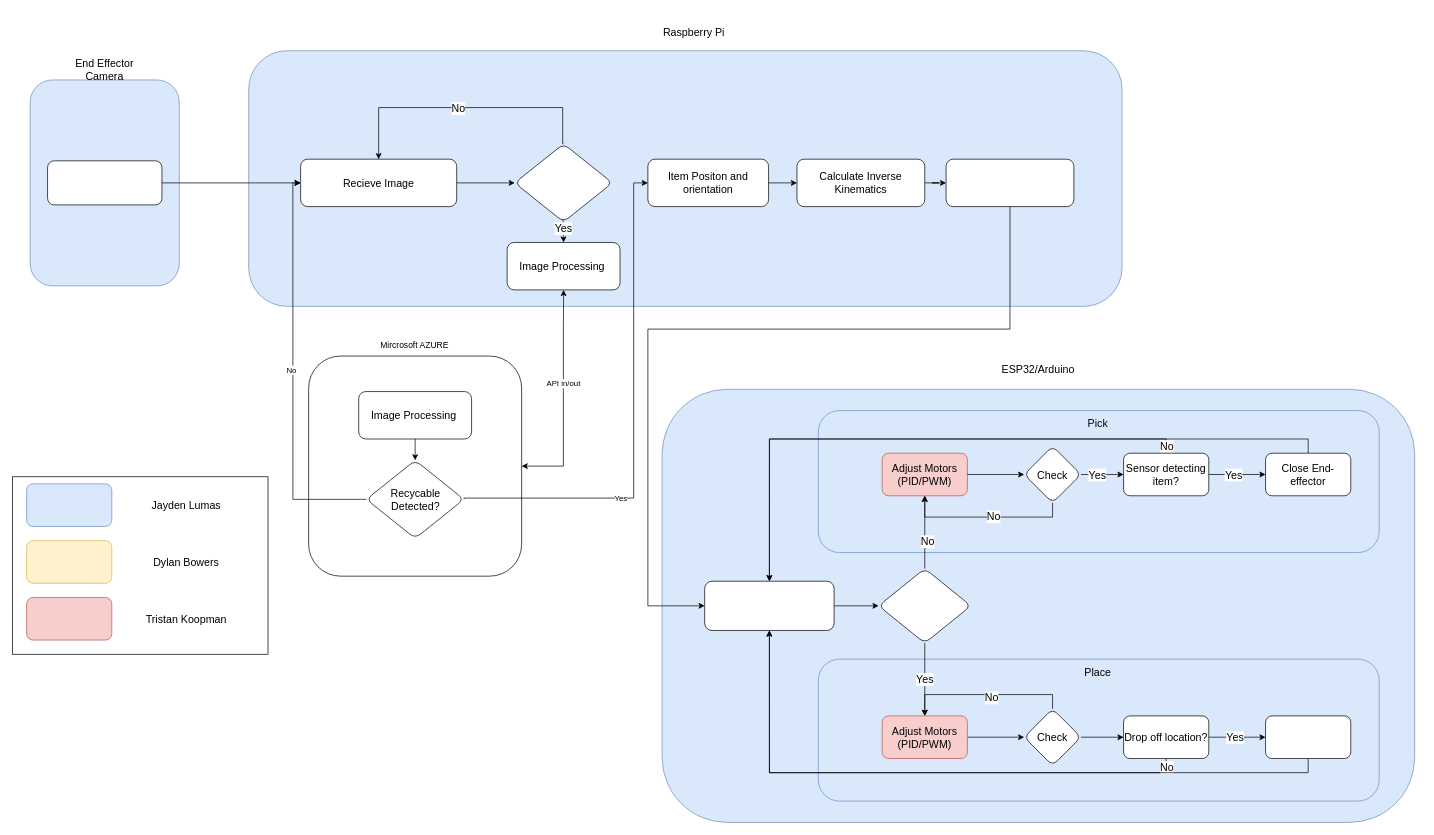
Some shapes in this 1434 by 835 pixel diagram are drawn without their labels. The box of each missing label's shape, as (x1, y1, x2, y2) in pixels:
Capture image: (47, 160, 162, 205)
Item Detected?: (514, 143, 612, 222)
Item in hand?: (878, 568, 971, 643)
Open end-effector: (1265, 715, 1351, 758)
Recieve IK Data: (704, 580, 834, 630)
Send IK data (Motor angles): (945, 158, 1074, 207)
